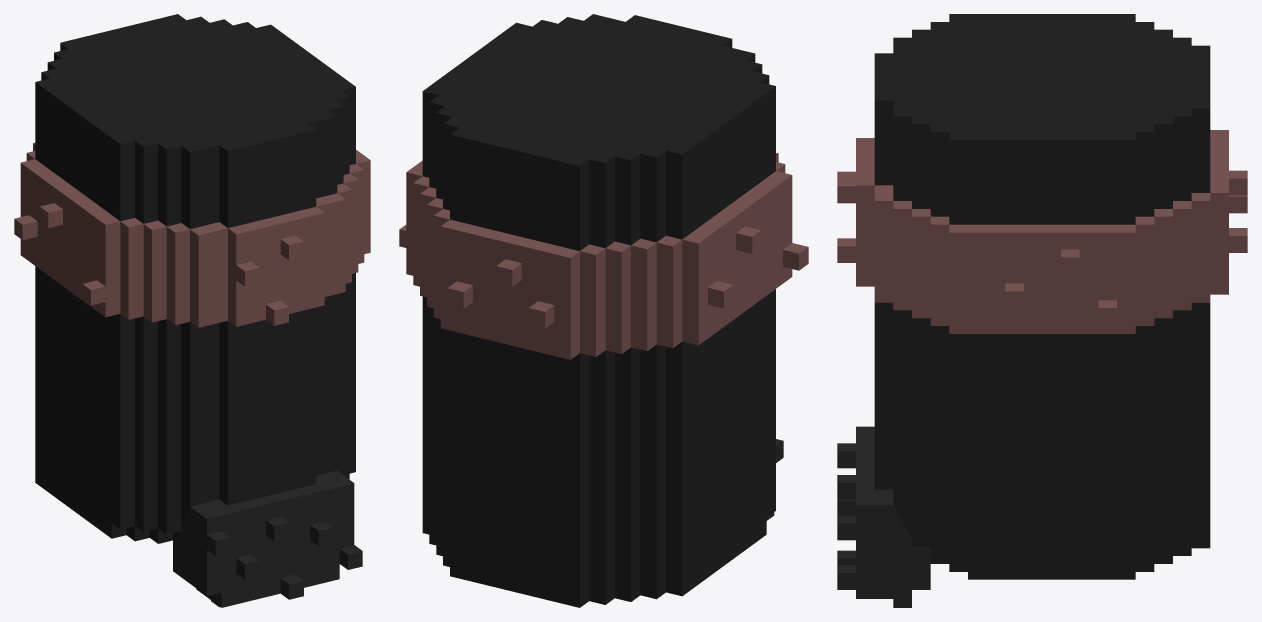
File: SM_ForgeGolem_Left_Upper_Leg.fbx
3 views of the same model, side by side, from view 1: azimuth 30°, elevation 25°; view 2: azimuth 150°, elevation 25°; view 3: azimuth 270°, elevation 25° (orthographic). The views are drawn at different scales.
Parts seen in each view (by area): view 1: SM_ForgeGolem_Left_Upper_Leg; view 2: SM_ForgeGolem_Left_Upper_Leg; view 3: SM_ForgeGolem_Left_Upper_Leg.
Boxes of the visible parts, x1,y1,x2,y2 form: SM_ForgeGolem_Left_Upper_Leg: (14,14,370,607); SM_ForgeGolem_Left_Upper_Leg: (399,14,808,607); SM_ForgeGolem_Left_Upper_Leg: (837,14,1247,607).
Bounding box in the file's own units: 200 × 300 × 220.
